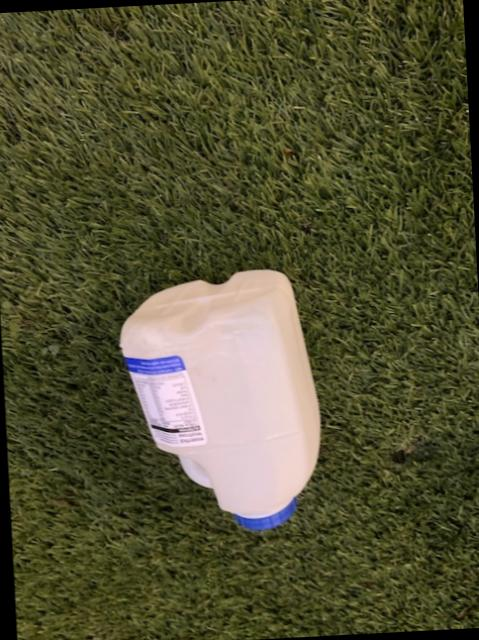plastic: (121, 271, 320, 530)
